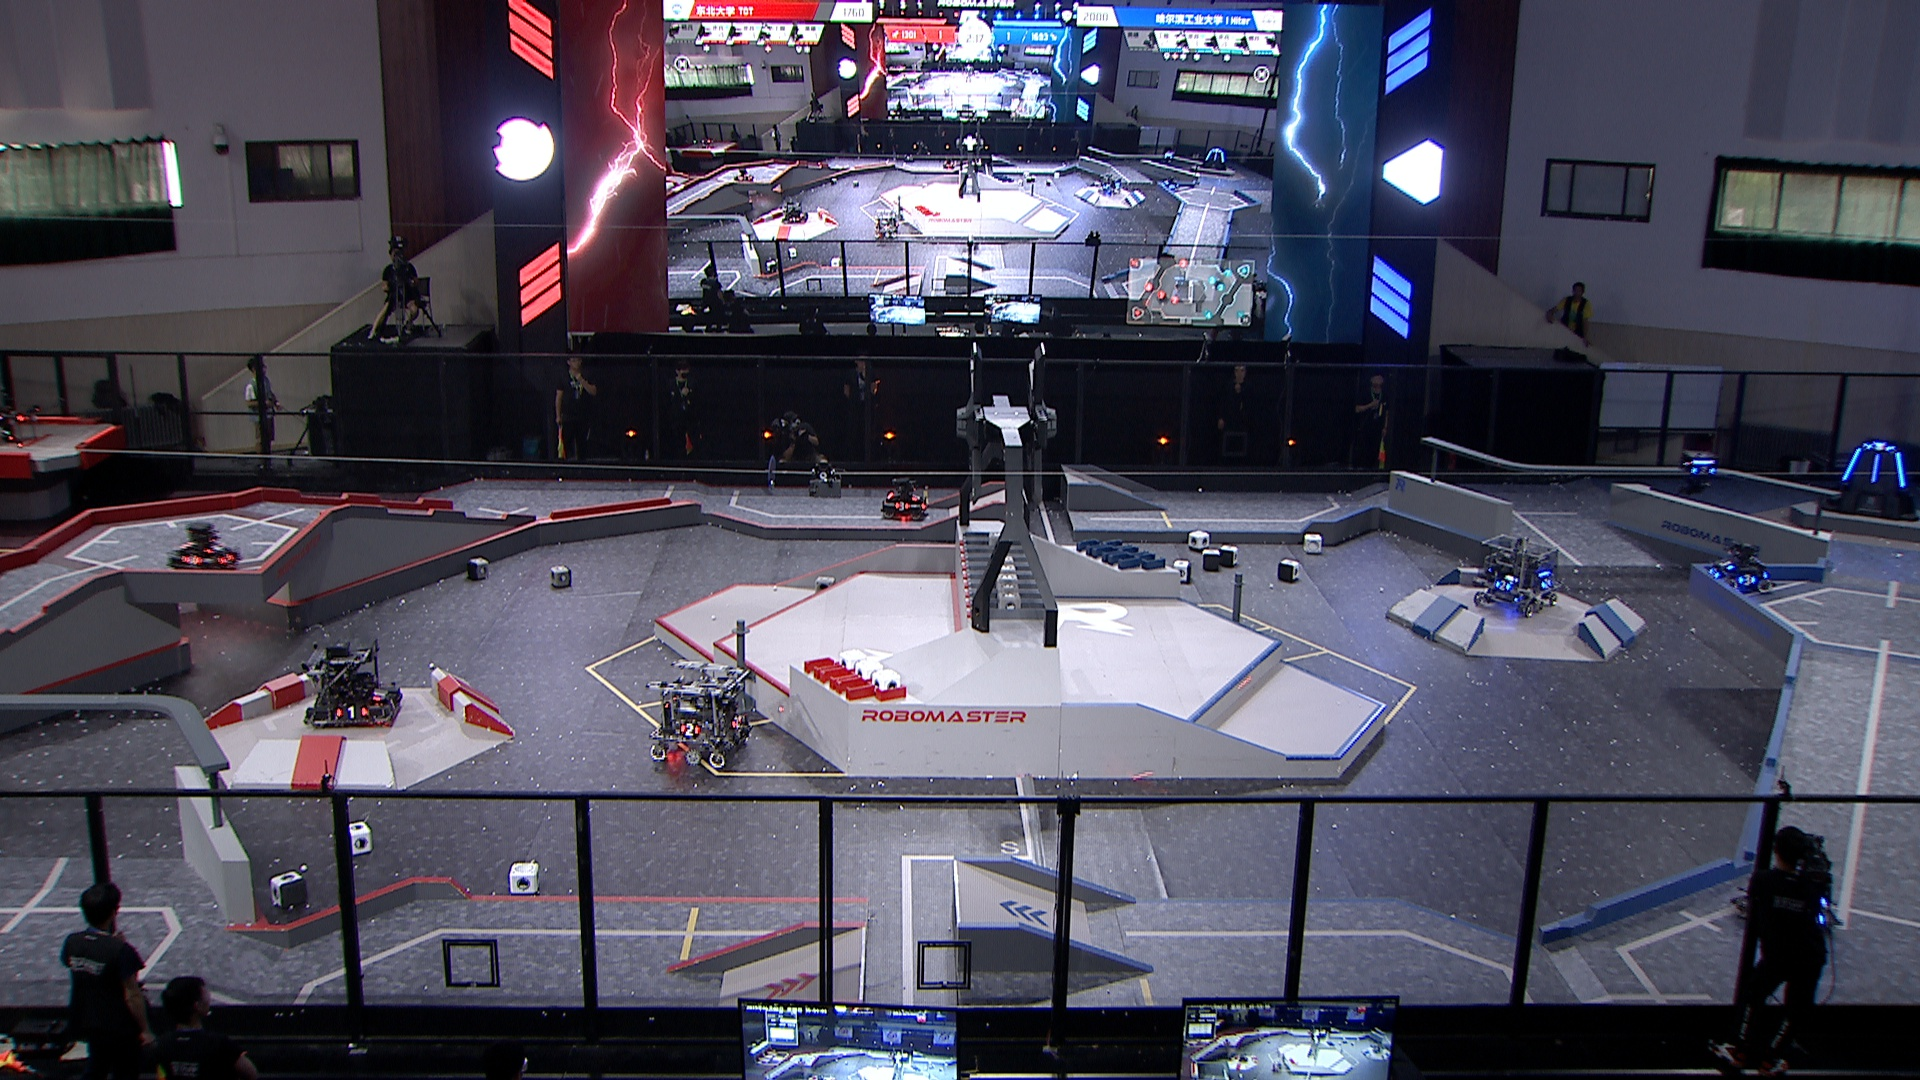armor: (1837, 446, 1865, 483), (1894, 446, 1909, 491), (334, 704, 371, 723), (368, 684, 392, 705), (676, 721, 703, 740), (1869, 452, 1883, 485), (1863, 439, 1892, 454), (1692, 462, 1718, 477), (1491, 575, 1514, 593), (381, 692, 401, 712), (199, 542, 225, 556), (212, 549, 233, 566), (1733, 571, 1756, 585), (1538, 575, 1556, 593), (178, 553, 202, 566), (728, 713, 745, 731), (891, 498, 911, 513), (1708, 564, 1724, 579), (907, 489, 923, 501), (1720, 556, 1733, 570)
base: (1813, 433, 1920, 527)
car: (650, 655, 757, 770), (1733, 855, 1845, 945), (302, 637, 404, 733), (1468, 531, 1564, 621), (166, 518, 243, 576), (1702, 541, 1776, 591), (876, 472, 931, 522)
ignore: (872, 210, 902, 240), (781, 196, 808, 225), (1096, 171, 1124, 199), (1200, 146, 1229, 173), (732, 164, 757, 185), (1160, 174, 1183, 191), (1160, 145, 1178, 166)
watcher: (1673, 444, 1722, 496)
